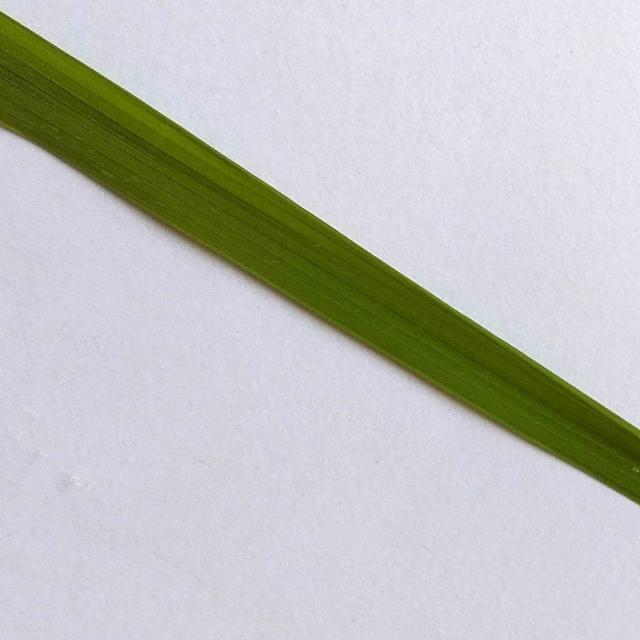healthy: (1, 1, 640, 506)
